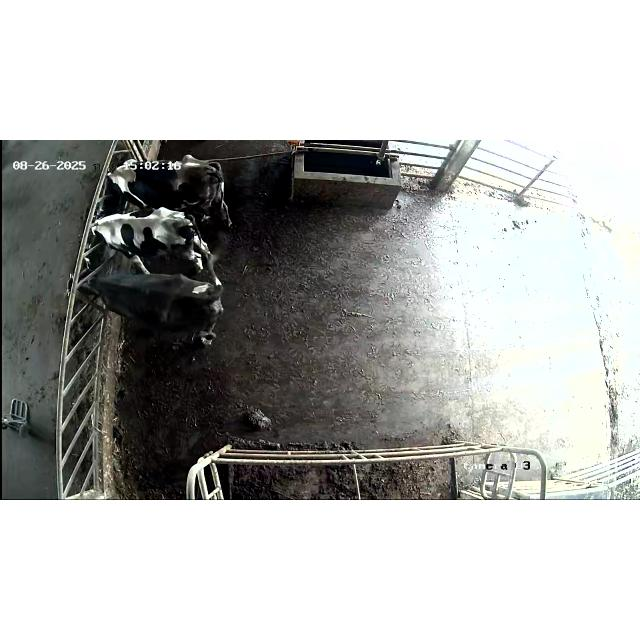eat: (75, 159, 145, 207), (70, 212, 132, 264), (60, 269, 120, 307)
